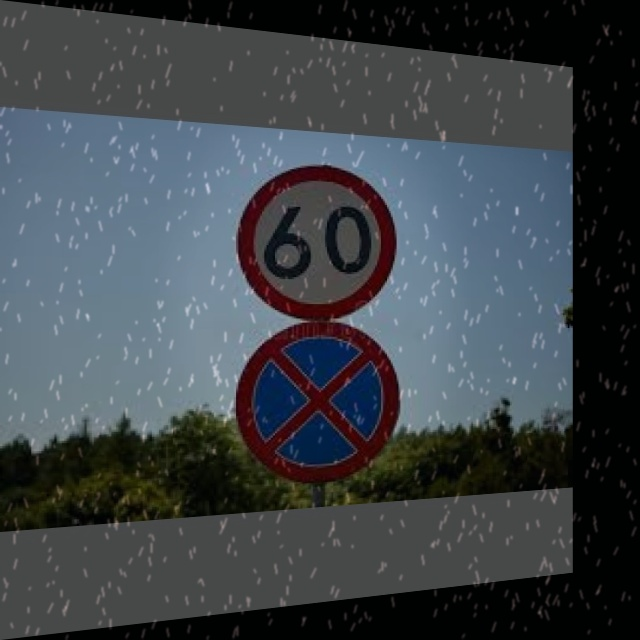Speed_Limit_60: (241, 160, 394, 320)
